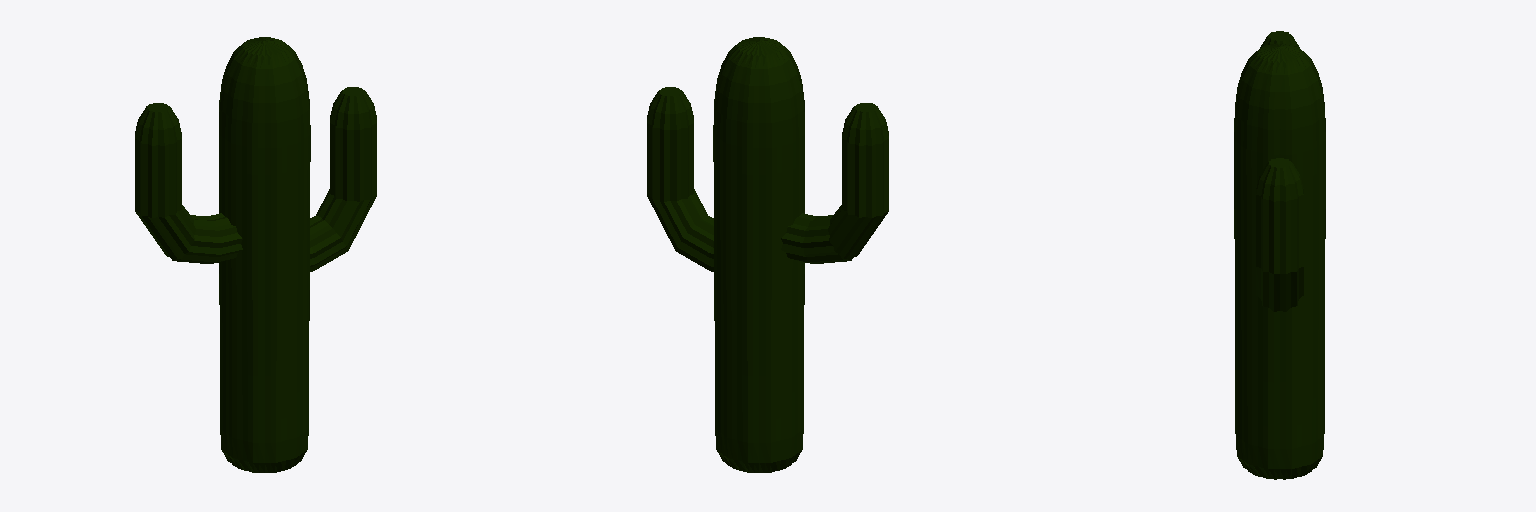
The model's file is cactus.obj.
The picture shows the model from 3 angles: view 1: azimuth 30°, elevation 25°; view 2: azimuth 150°, elevation 25°; view 3: azimuth 270°, elevation 25°; orthographic projection.
Parts seen in each view (by area): view 1: Cactus_Cylinder.012; view 2: Cactus_Cylinder.012; view 3: Cactus_Cylinder.012.
Boxes of the visible parts, x1=… form: Cactus_Cylinder.012: x1=135, y1=37, x2=376, y2=472; Cactus_Cylinder.012: x1=647, y1=37, x2=888, y2=472; Cactus_Cylinder.012: x1=1234, y1=31, x2=1325, y2=479.
Bounding box in the file's own units: 4.3 × 7.42 × 1.45.